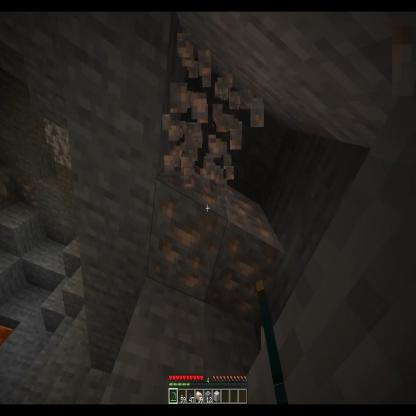iron ore: (148, 164, 227, 314), (211, 189, 288, 325), (17, 171, 41, 210)
